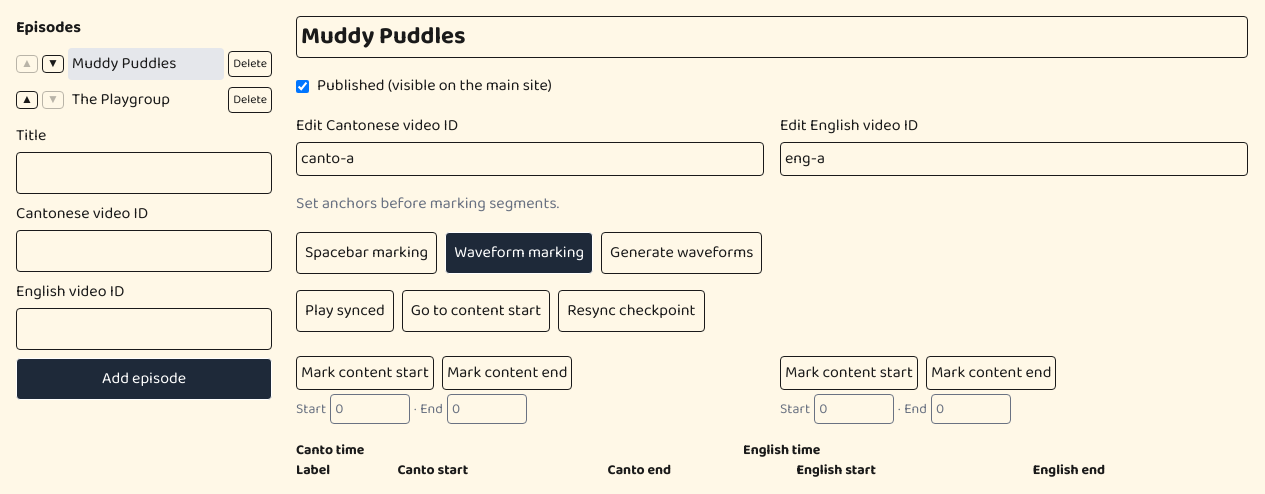
Test: Admin › deletes an episode after confirming, and selects a remaining one
Expected: the field named "Episode title" holds "Muddy Puddles", [296, 16, 1248, 58]
Click the 1st button "Delete". click: [250, 64]
box: [228, 51, 272, 77]
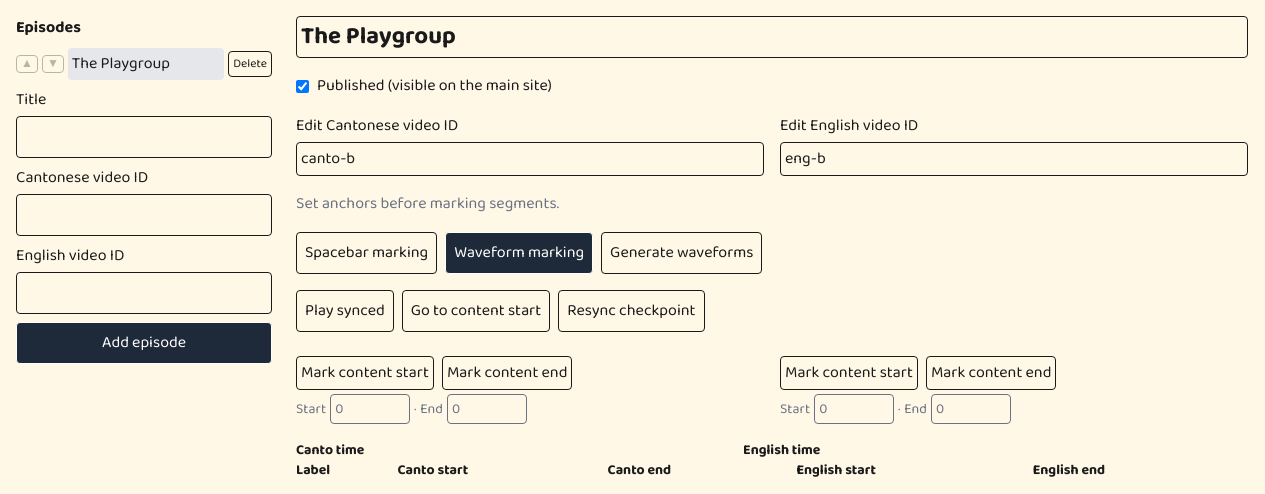
Expected: the button "Muddy Puddles" is gone
Expected: the field named "Episode title" holds "The Playgroup", [296, 16, 1248, 58]
